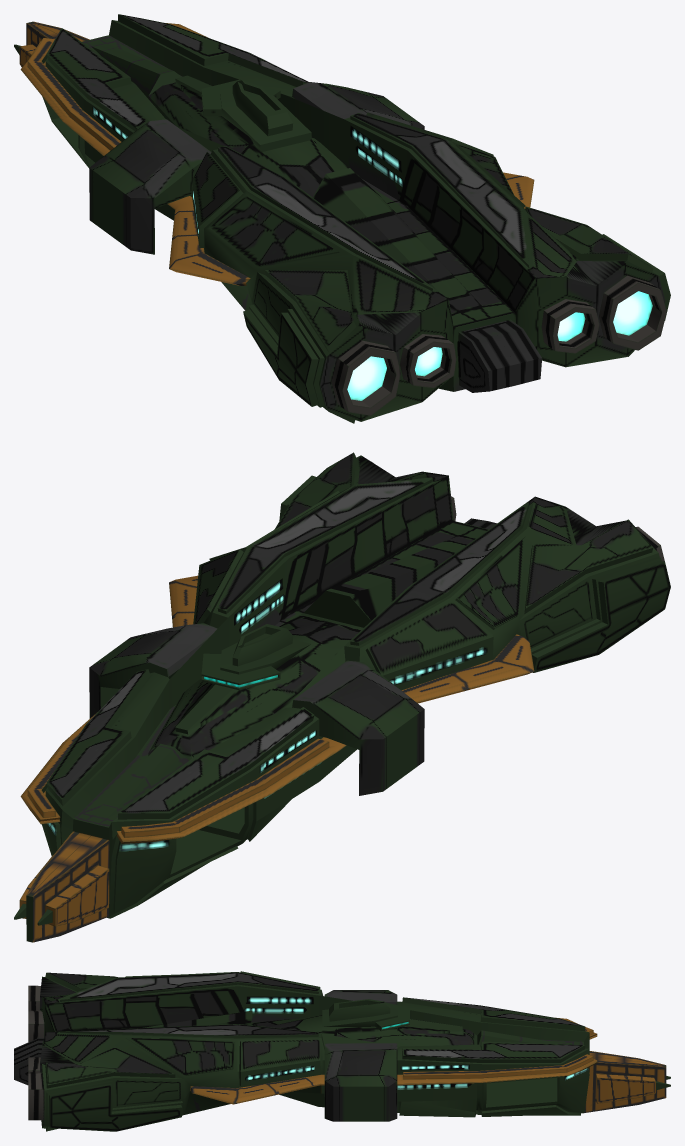
File: Magnus.fbx
3 views of the same model, one above another, from view 1: azimuth 30°, elevation 25°; view 2: azimuth 150°, elevation 25°; view 3: azimuth 270°, elevation 25° (orthographic). The views are drawn at different scales.
Parts seen in each view (by area): view 1: Cube; view 2: Cube; view 3: Cube.
Part boxes in pixels (bbox=[...]): Cube: bbox=[14, 14, 670, 423]; Cube: bbox=[14, 452, 670, 942]; Cube: bbox=[14, 971, 670, 1131].
Bounding box in the file's own units: 3089 × 1293 × 7158.
Materials: 1 (1 with a texture image).
